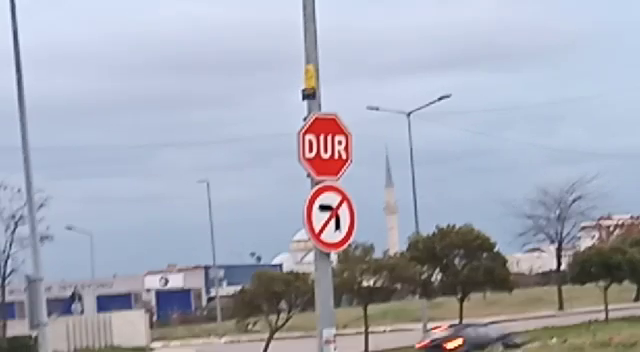no_left: (301, 181, 358, 256)
stop: (294, 111, 355, 185)
